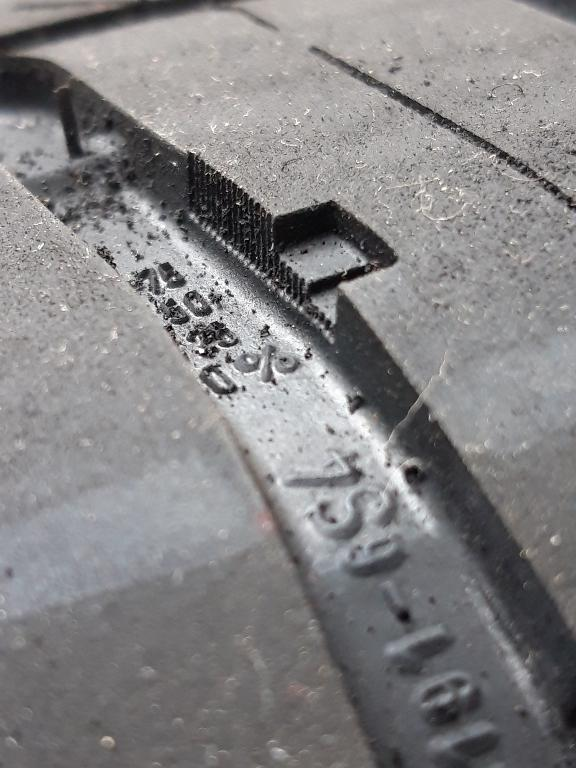temoin:50: (237, 176, 407, 355)
